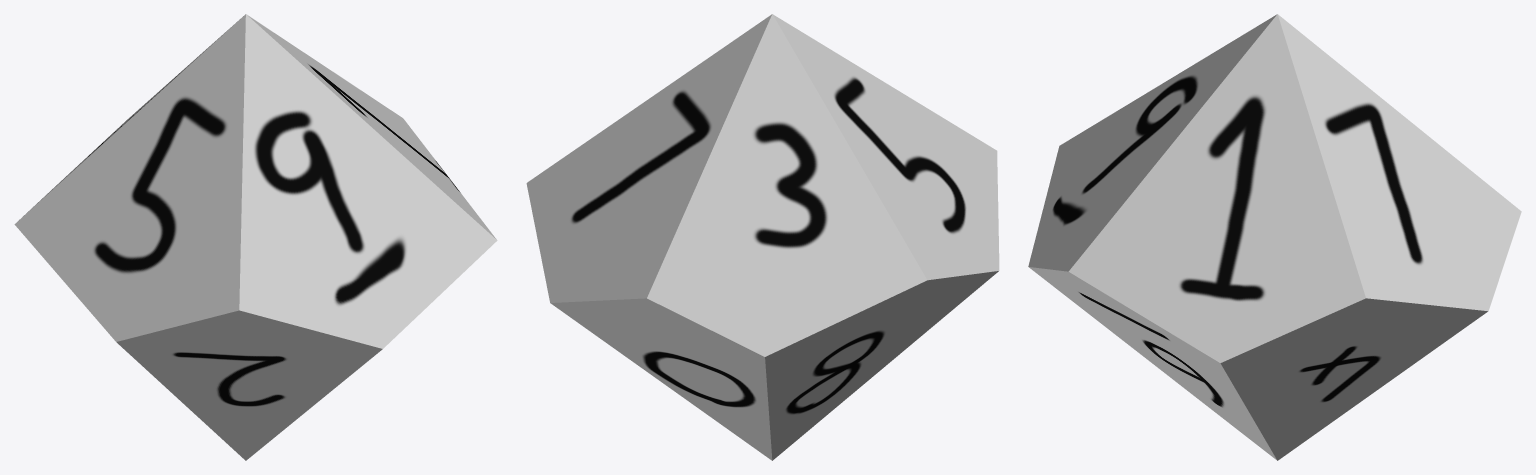
3 renders of one model, left to right at view 1: azimuth 30°, elevation 25°; view 2: azimuth 150°, elevation 25°; view 3: azimuth 270°, elevation 25°, orthographic.
Parts seen in each view (by area): view 1: Cone.001; view 2: Cone.001; view 3: Cone.001.
Boxes of the visible parts, x1,y1,x2,y2 form: Cone.001: [14, 14, 497, 460]; Cone.001: [526, 14, 999, 460]; Cone.001: [1028, 14, 1521, 460].
Bounding box in the file's own units: 207 × 220 × 220.
1 material, 1 textured.
